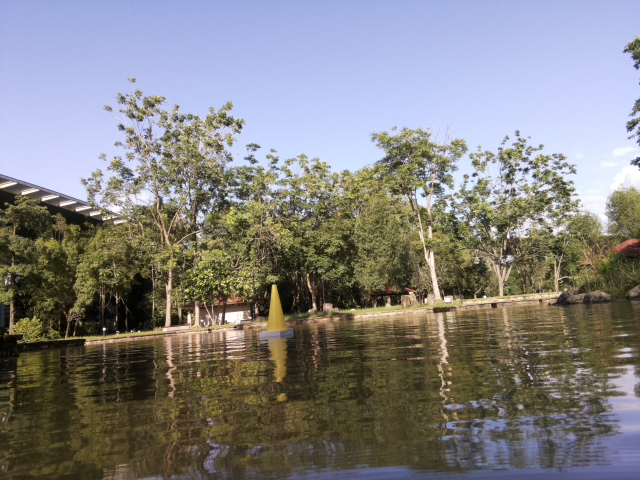checkpoint: (260, 282, 294, 340)
